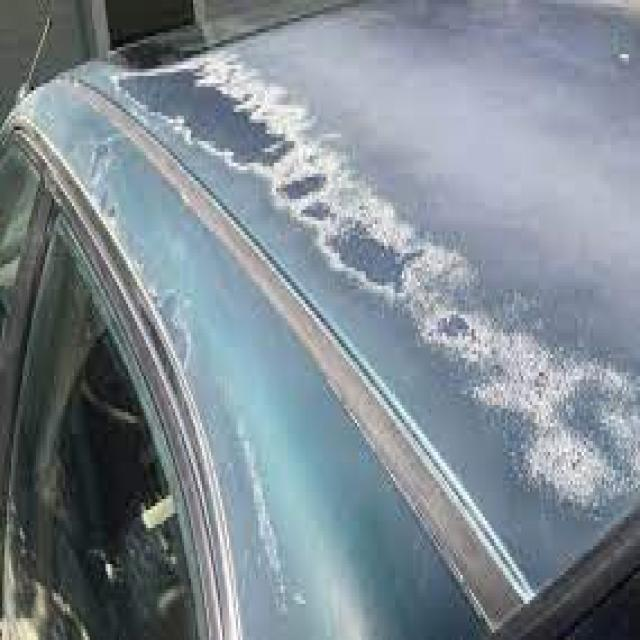paint-chip: (101, 41, 638, 518)
